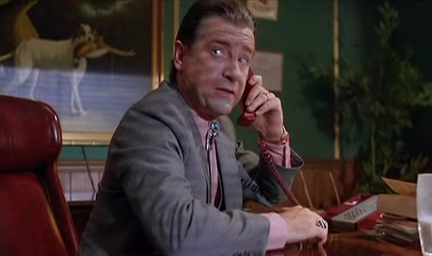face: (194, 31, 255, 115)
mcu: (1, 1, 432, 256)
person: (76, 1, 328, 256)
